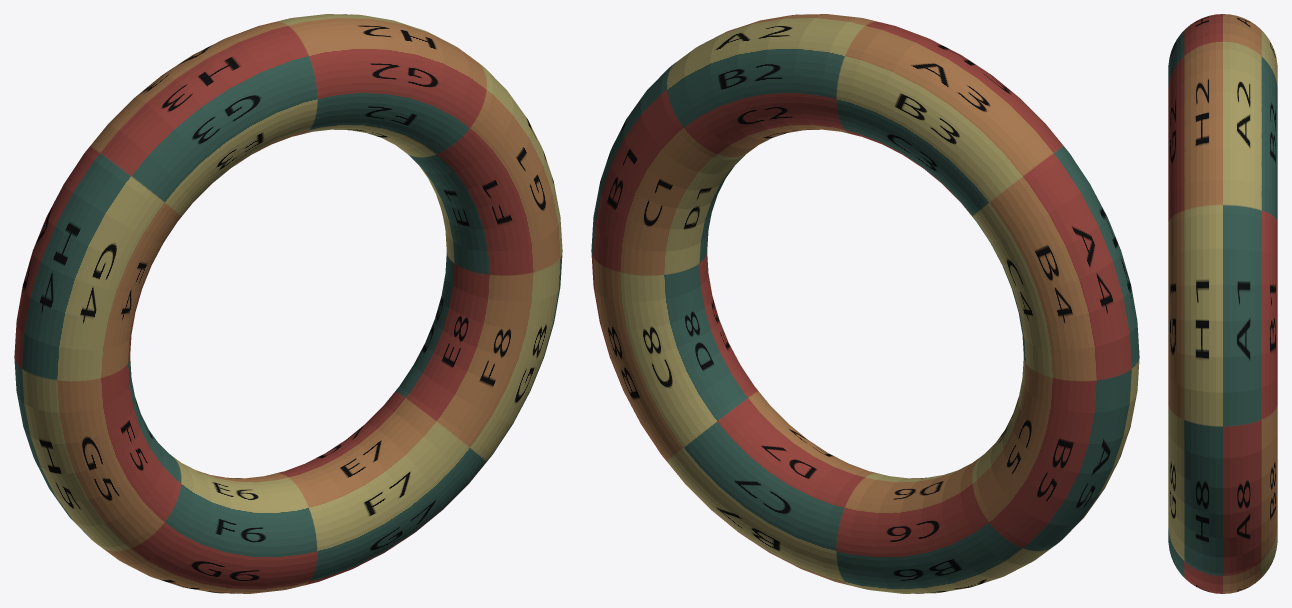
Rendered from texture_torus_R10_r7.glb.
The picture shows the model from 3 angles, left to right: view 1: azimuth 30°, elevation 25°; view 2: azimuth 150°, elevation 25°; view 3: azimuth 270°, elevation 25°; orthographic projection. The views are drawn at different scales.
Parts seen in each view (by area): view 1: world; view 2: world; view 3: world.
Boxes of the visible parts, x1=… form: world: x1=14, y1=14, x2=562, y2=593; world: x1=591, y1=14, x2=1139, y2=593; world: x1=1168, y1=14, x2=1277, y2=593.
Size of the model in its own units: 20.53 by 20.49 by 3.86.
Materials: 1 (1 with a texture image).
